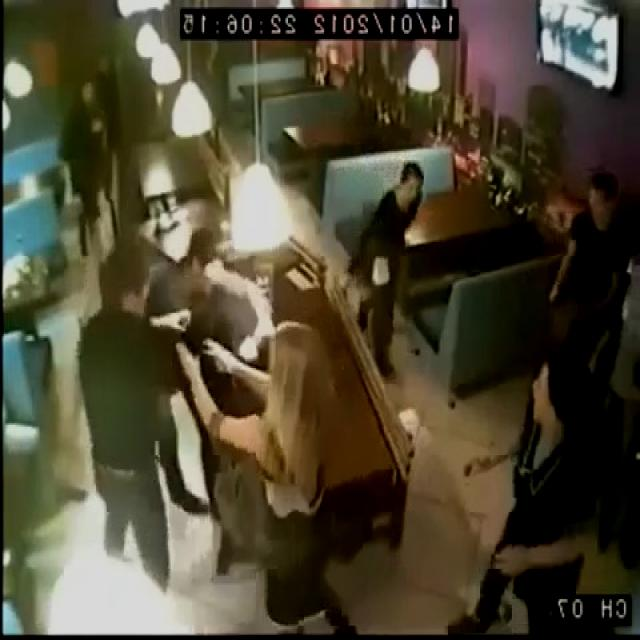fight: (137, 228, 244, 456)
